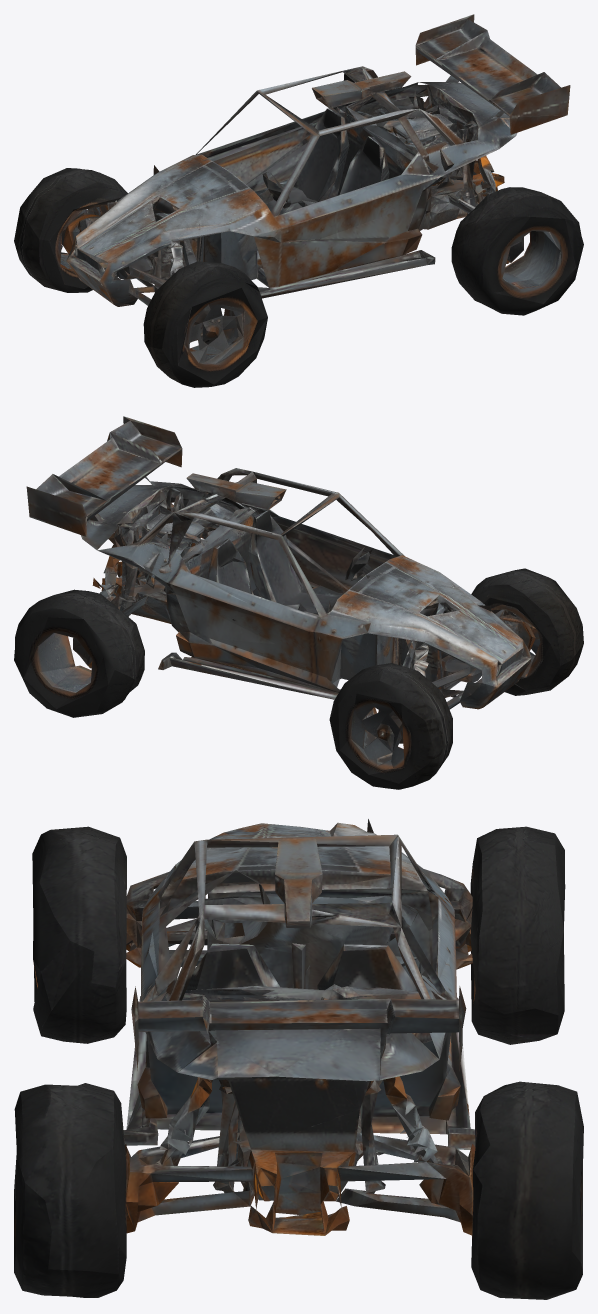
Rendered from hopper-carcass-high.glb.
The picture shows the model from 3 angles, top to bottom: view 1: azimuth 30°, elevation 25°; view 2: azimuth 150°, elevation 25°; view 3: azimuth 270°, elevation 25°; orthographic projection. The views are drawn at different scales.
Size of the model in its own units: 1.9 by 0.8306 by 1.26.
Materials: 1 (1 with a texture image).
